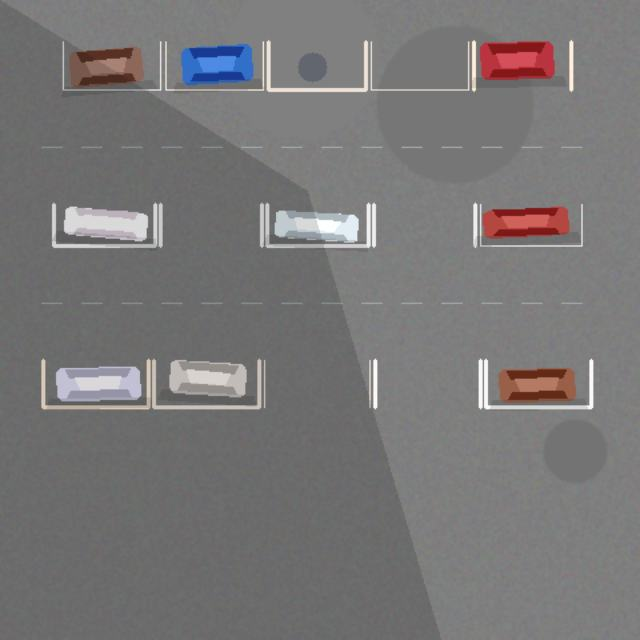space-empty: (264, 360, 369, 407), (375, 360, 480, 407), (268, 41, 365, 89), (371, 41, 468, 89), (373, 204, 475, 245), (160, 204, 261, 245)
space-occupied: (153, 360, 259, 407), (485, 360, 591, 407), (43, 360, 148, 407), (165, 41, 263, 89), (473, 41, 571, 89), (63, 41, 160, 89), (53, 204, 155, 245), (267, 204, 368, 245), (480, 204, 581, 245)
